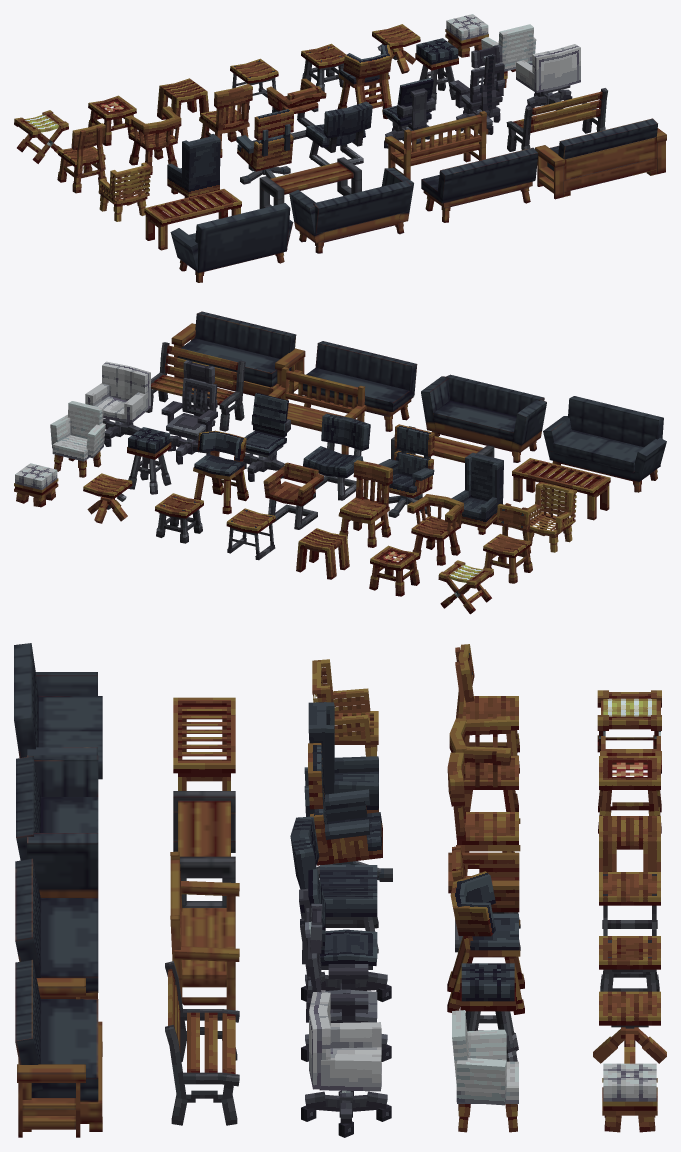
The model's file is collection.obj.
The picture shows the model from 3 angles, top to bottom: view 1: azimuth 30°, elevation 25°; view 2: azimuth 150°, elevation 25°; view 3: azimuth 270°, elevation 25°; orthographic projection. The views are drawn at different scales.
Parts seen in each view (by area): view 1: cube; view 2: cube; view 3: cube.
Part boxes in pixels (x1,y1,x2,y2): cube: [14, 14, 666, 282]; cube: [14, 311, 666, 614]; cube: [14, 643, 666, 1137].
Bounding box in the file's own units: 13.35 × 2.3 × 9.21.
29 materials, 29 textured.
